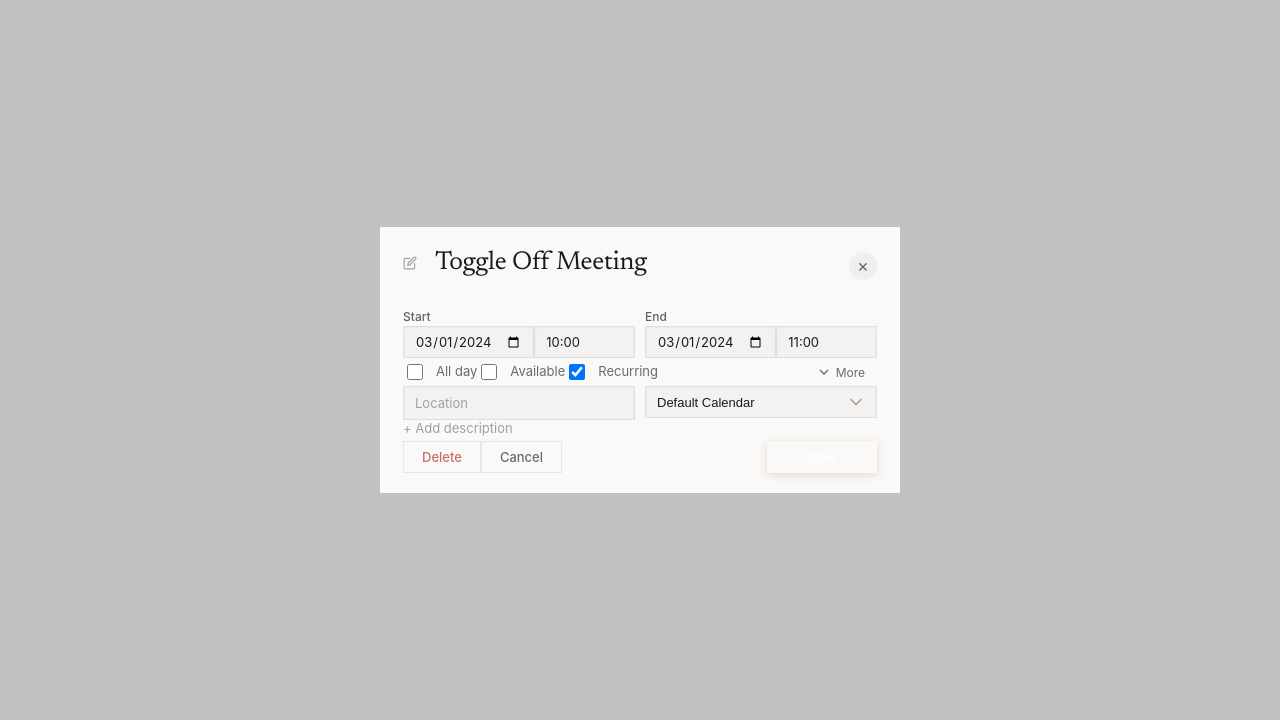
Test: EventModal › hasChanges with recurrence › shows RecurrenceDialog when toggling recurring off on a recurring event
# Toggle recurring off
What coordinates should you click on to do the following:
click the checkbox labelled "Recurring"
I would click on:
 (577, 372)
Its box is [569,364,585,380].
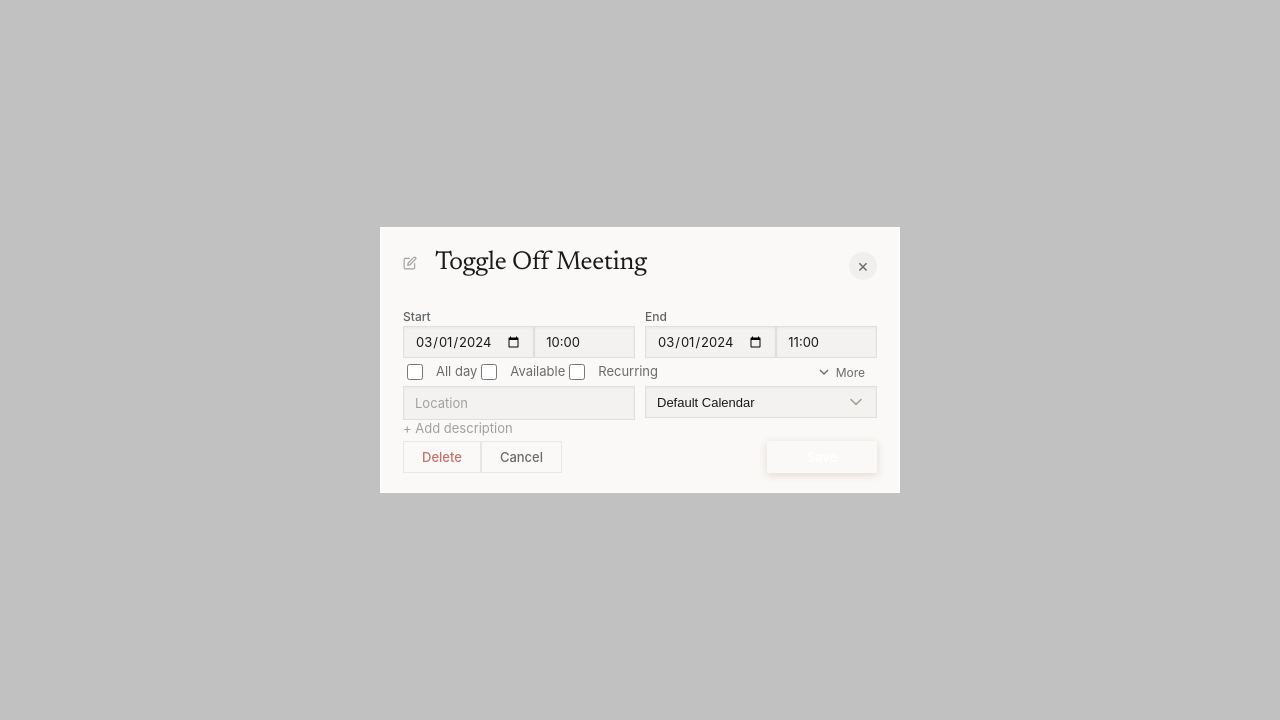
# Click Save
What coordinates should you click on to do the following:
click the button "Save"
I would click on:
 (822, 457)
Its box is [767,441,877,473].
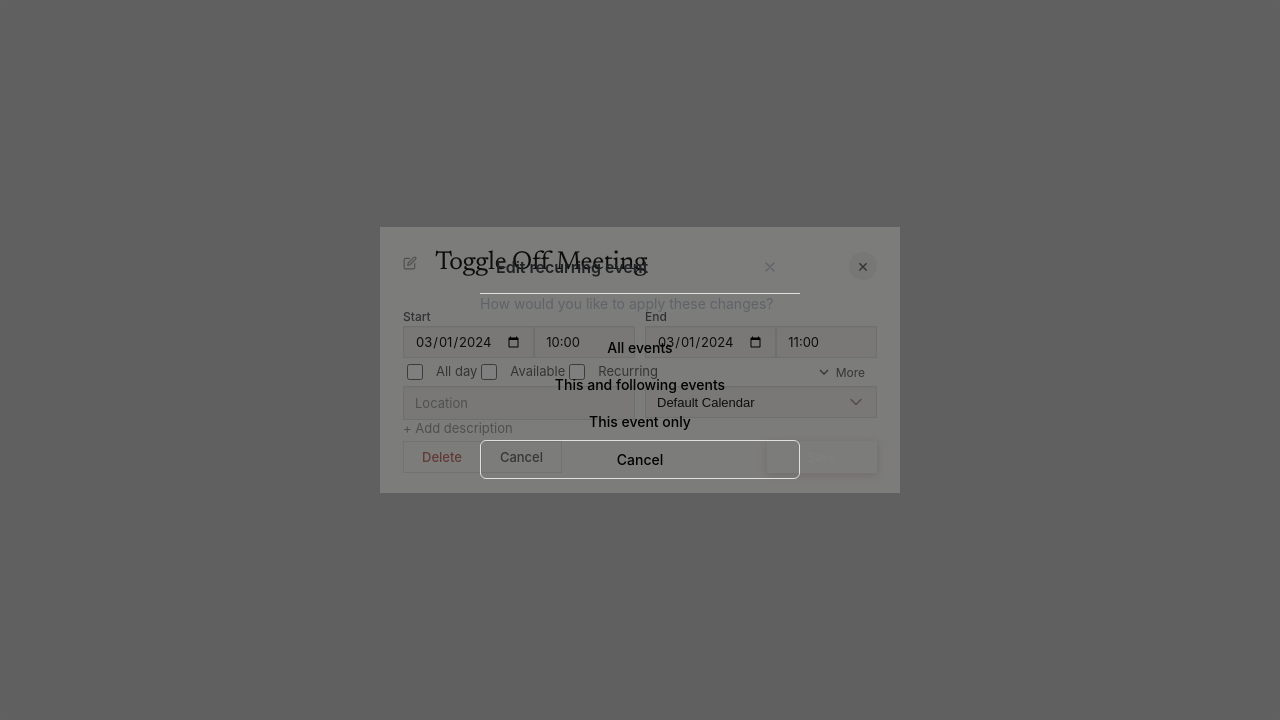
expect the heading "Edit recurring event" is shown: met, box [496,255,648,279]
